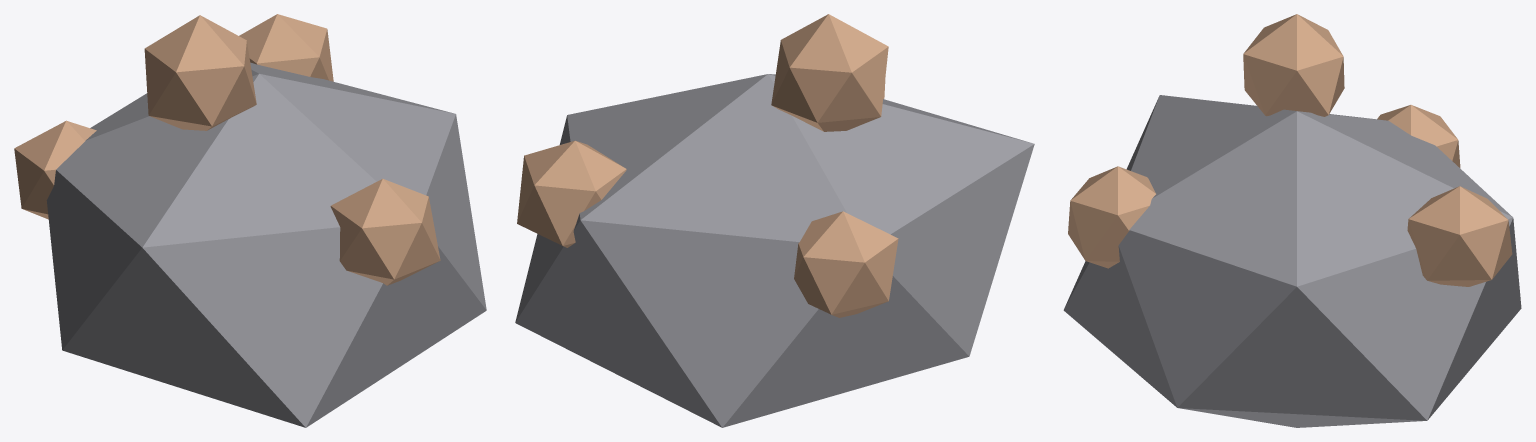
The model's file is iron_rock.glb.
3 renders of one model, left to right at view 1: azimuth 30°, elevation 25°; view 2: azimuth 150°, elevation 25°; view 3: azimuth 270°, elevation 25°, orthographic. The views are drawn at different scales.
Parts seen in each view (by area): view 1: iron_rock; view 2: iron_rock; view 3: iron_rock.
Boxes of the visible parts, x1=… form: iron_rock: x1=14, y1=14, x2=486, y2=427; iron_rock: x1=515, y1=14, x2=1034, y2=427; iron_rock: x1=1063, y1=14, x2=1521, y2=427.
Size of the model in its own units: 1.33 by 1.31 by 1.41.
